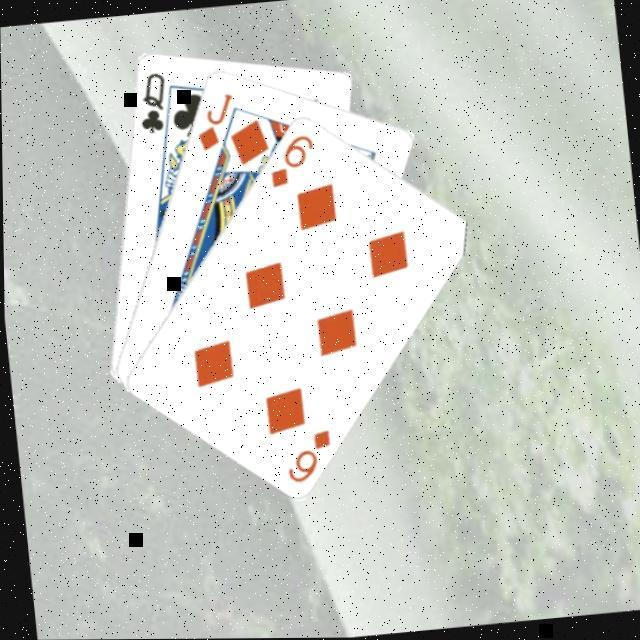6D: (276, 427, 334, 489), (260, 132, 318, 193)
JD: (187, 90, 239, 156)
QC: (129, 70, 170, 138)
